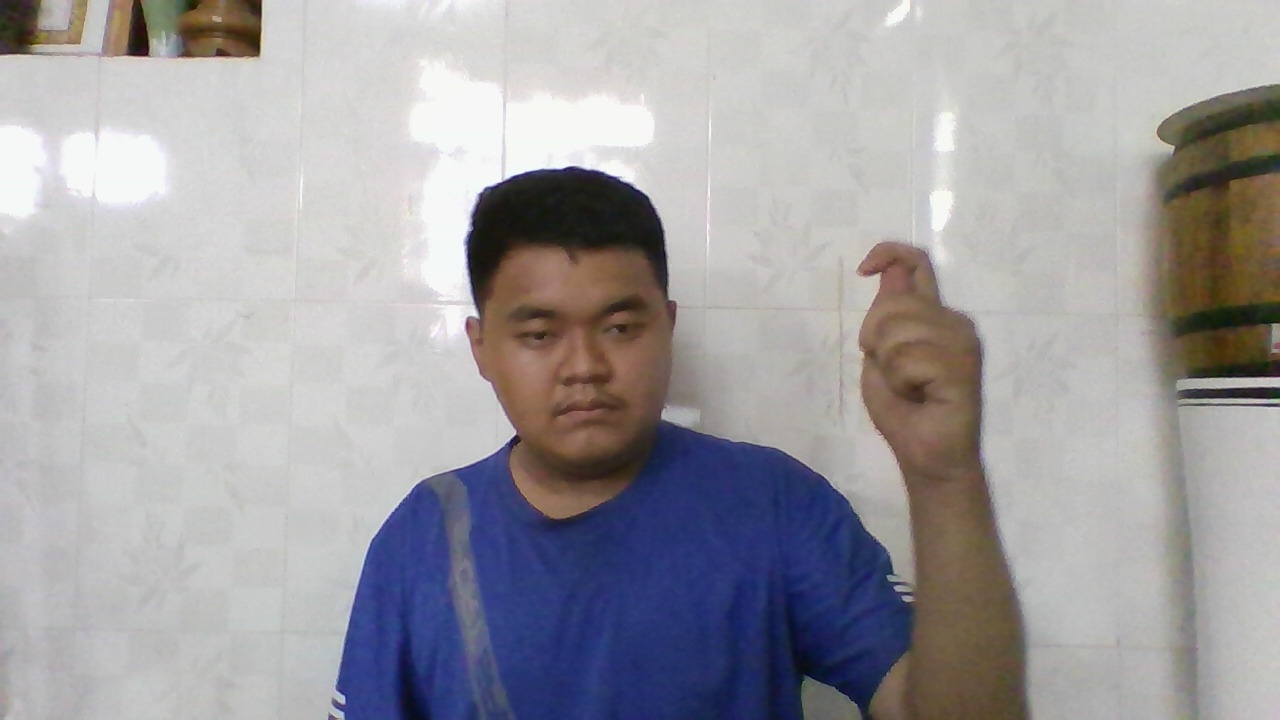X: (846, 234, 984, 483)
